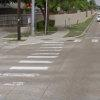Crosswalk: (8, 39, 66, 100)
